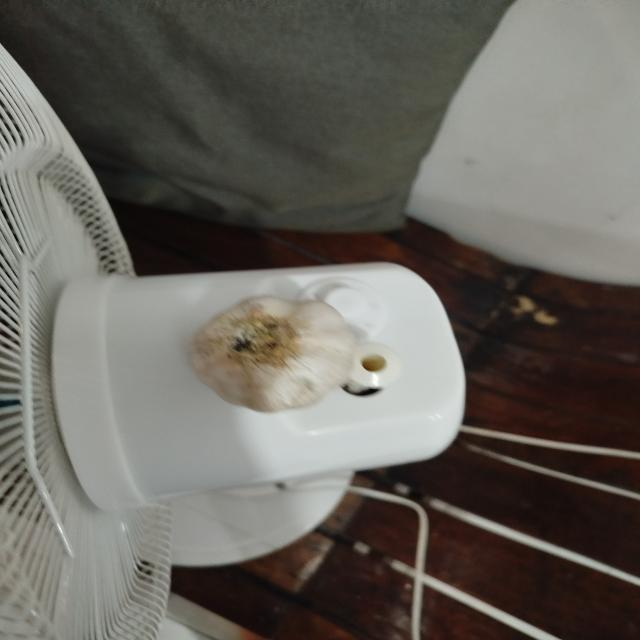garlic: (132, 269, 395, 432)
